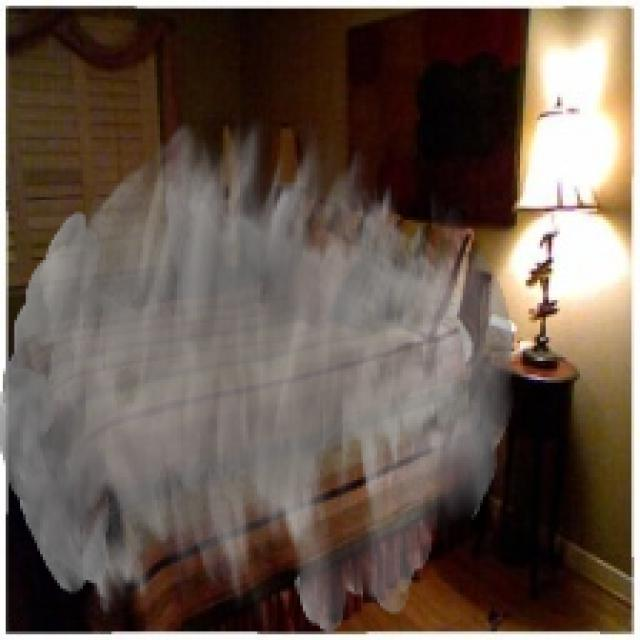smoke: (0, 117, 515, 635)
